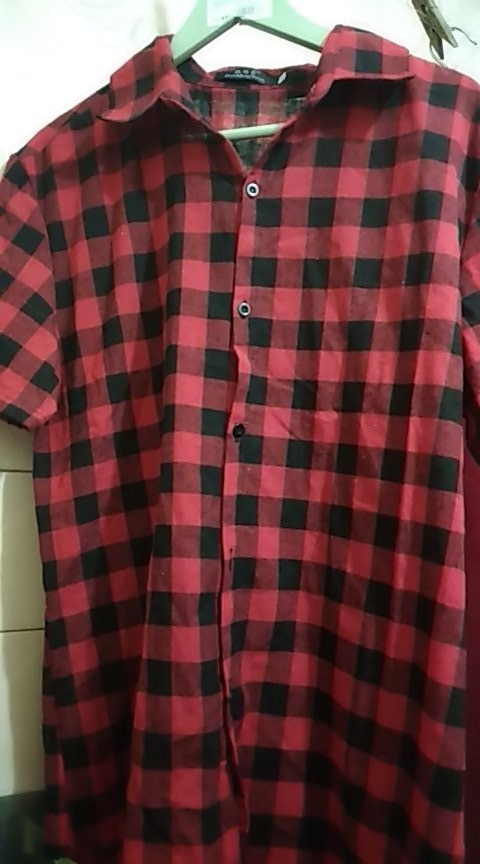shirts: (14, 37, 480, 852)
